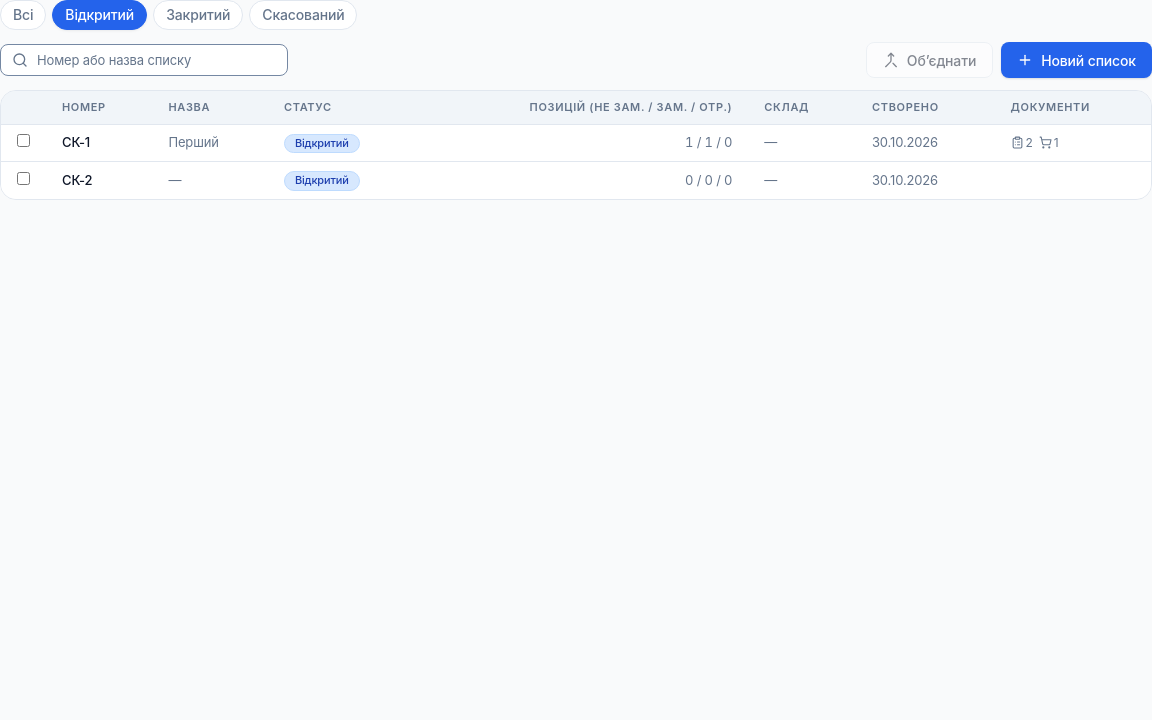
Test: Списки купівлі — пов’язані документи (BR-PL-020) › картка: лічильник на вкладці «Документи» — до першого її відкриття
The image size is (1152, 720).
Click the row with test id "purchase-list-row" that starts with "СК-1" at (576, 143), box [1,124,1151,162]
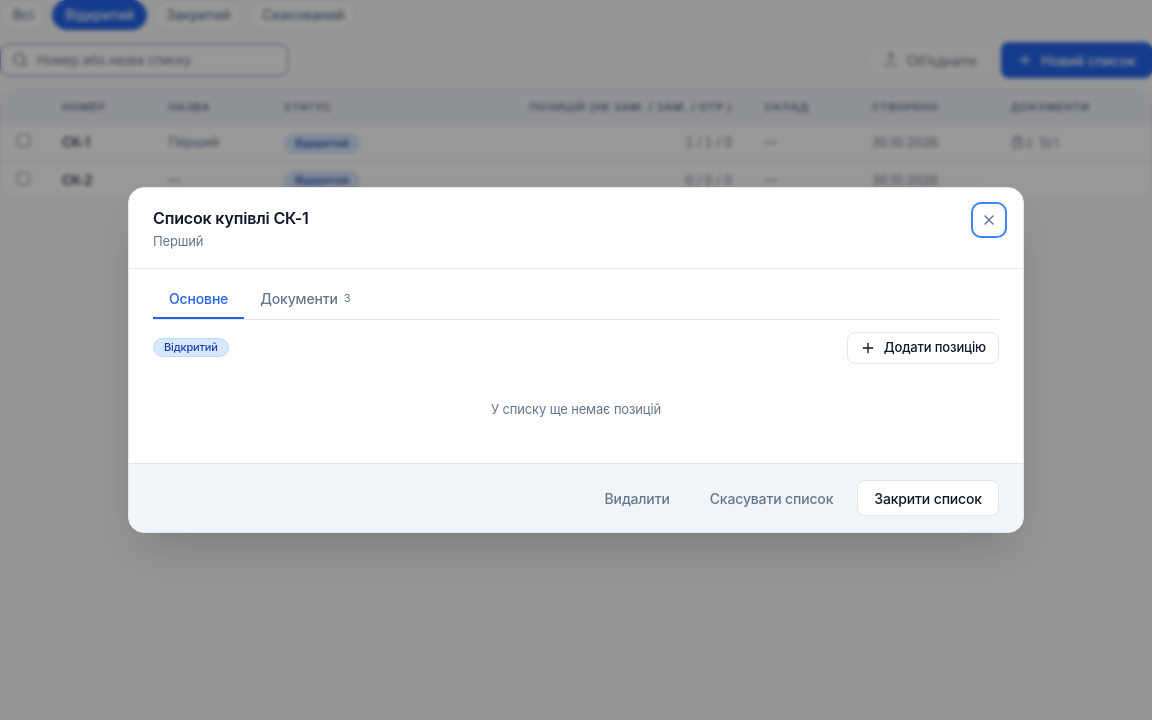
Check: the tab "Документи 3" is shown, box [244,280,367,318]
